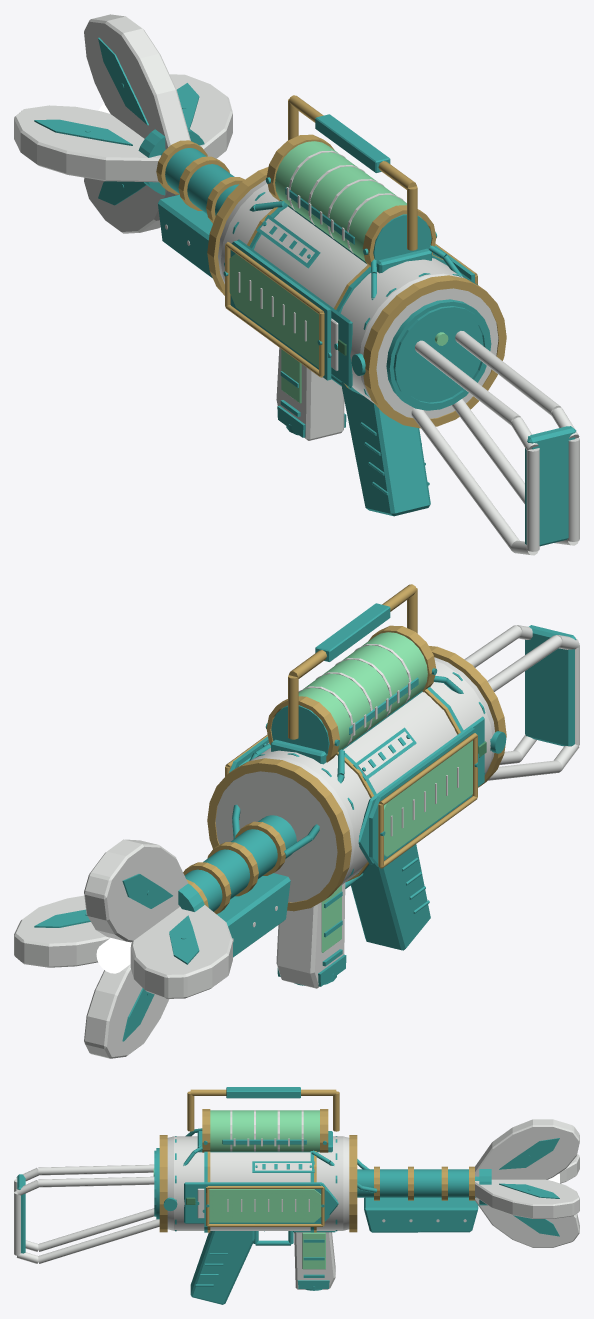
The model's file is medic_1.glb.
The picture shows the model from 3 angles, top to bottom: view 1: azimuth 30°, elevation 25°; view 2: azimuth 150°, elevation 25°; view 3: azimuth 270°, elevation 25°; orthographic projection. The views are drawn at different scales.
Parts seen in each view (by area): view 1: Weapon_medic_v1; view 2: Weapon_medic_v1; view 3: Weapon_medic_v1.
Part boxes in pixels (x1=…): Weapon_medic_v1: x1=14, y1=14, x2=579, y2=555; Weapon_medic_v1: x1=14, y1=584, x2=579, y2=1058; Weapon_medic_v1: x1=14, y1=1087, x2=579, y2=1304.
Bounding box in the file's own units: 0.2 × 0.3432 × 0.8356.
